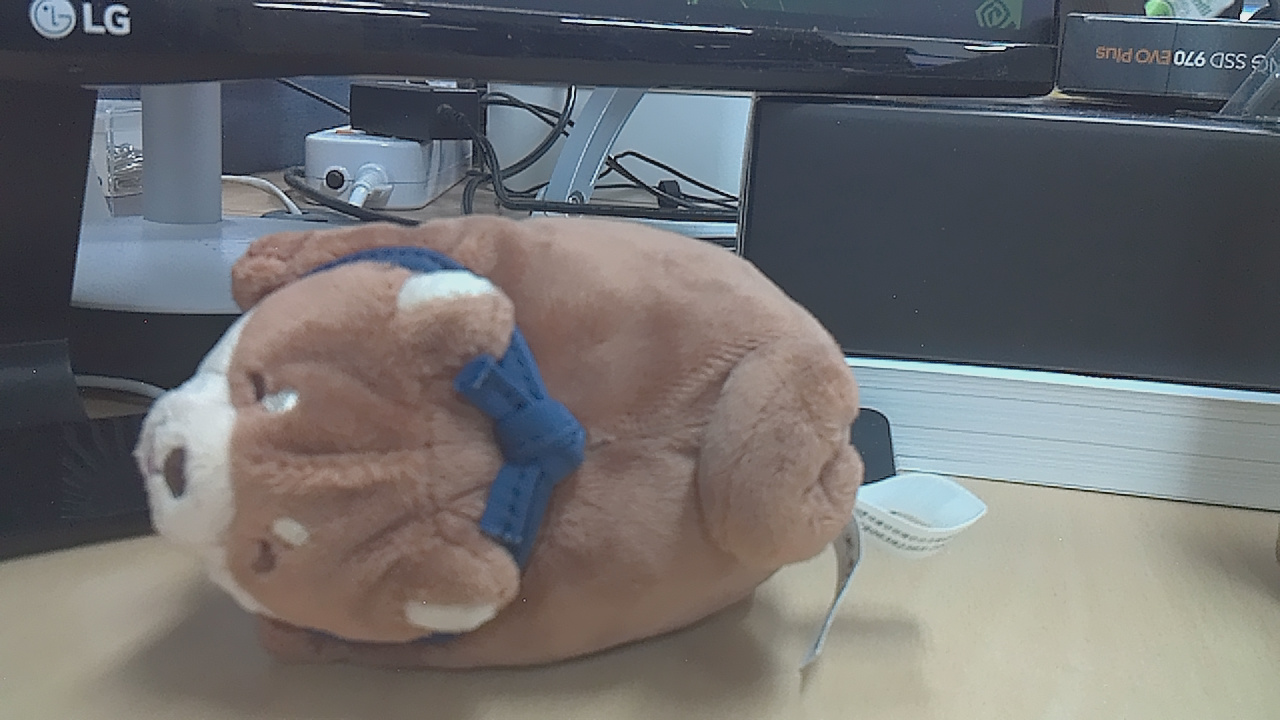cuteDog: (121, 169, 924, 672)
